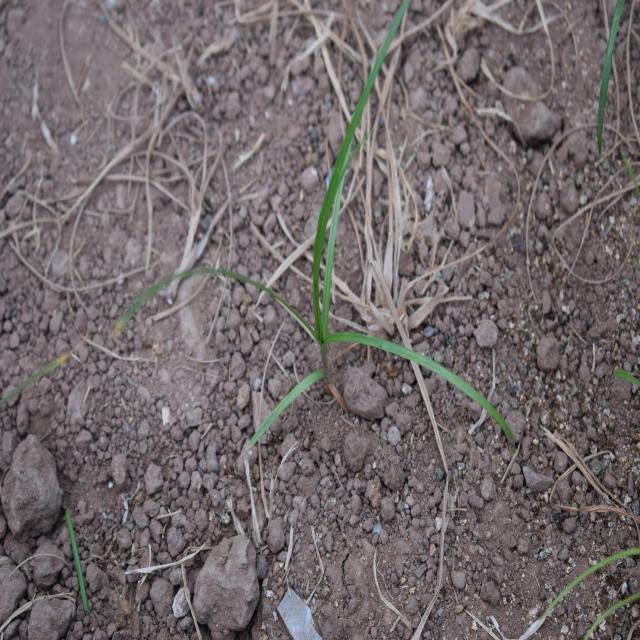sedge: (149, 48, 532, 460)
